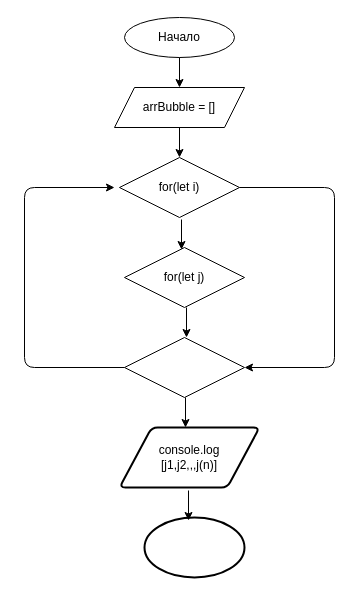
The diagram is 360 pixels wide and 596 high, and some of its shapes have lost their labels. Each missing label, with the box of its shape:
if(j > j + 1): (124, 336, 244, 398)
Конец: (143, 516, 245, 578)
